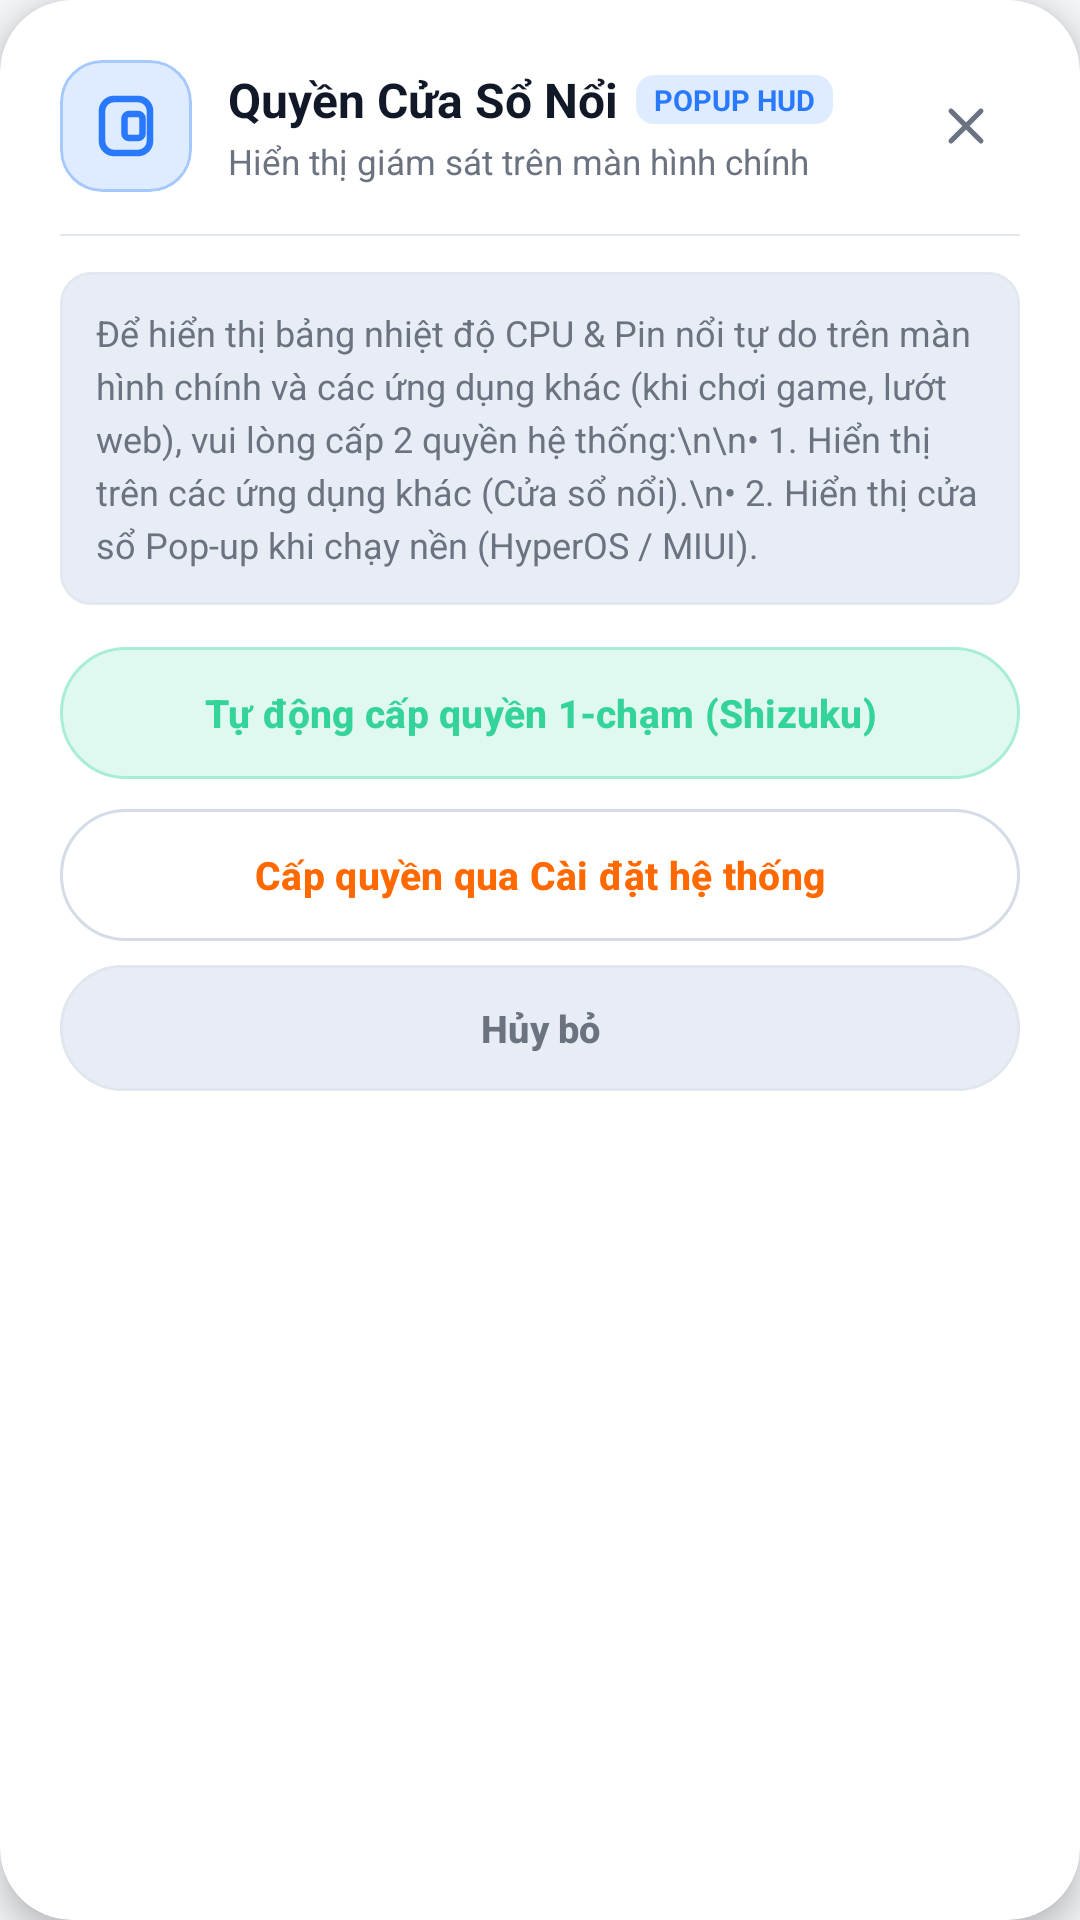

Named icons in this screenshot (1080x1920) and their bounding boxes, (x1, y1, x2, y2):
close: (948, 108, 984, 144)
popup window: (98, 95, 154, 157)
